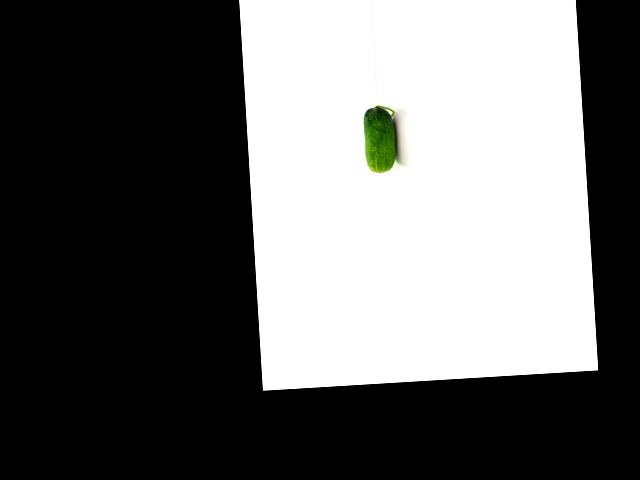cucumber: (362, 105, 398, 174)
